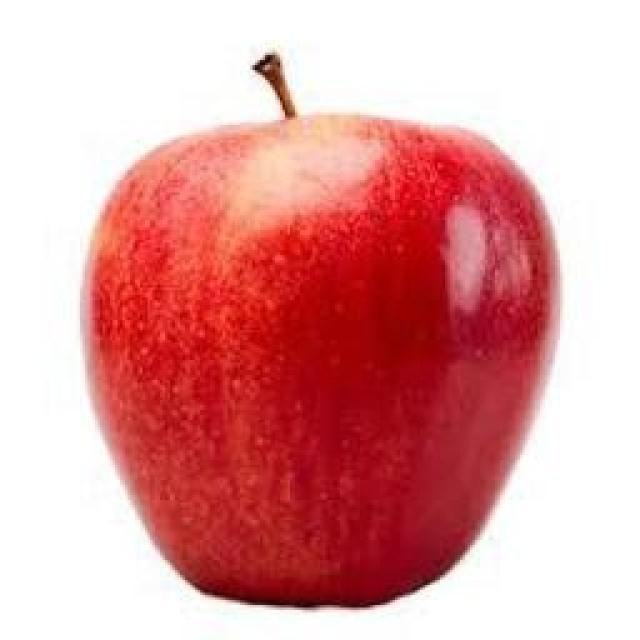Apple: (88, 116, 555, 604)
